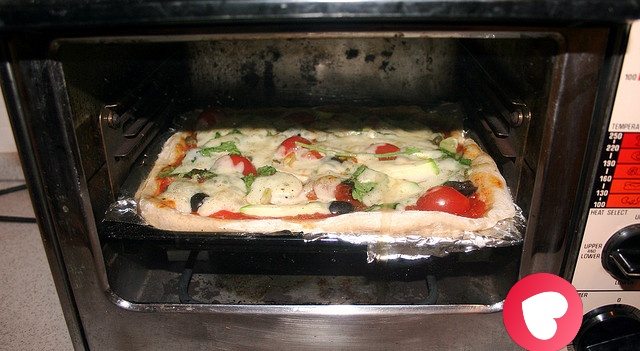love: (503, 273, 583, 351)
